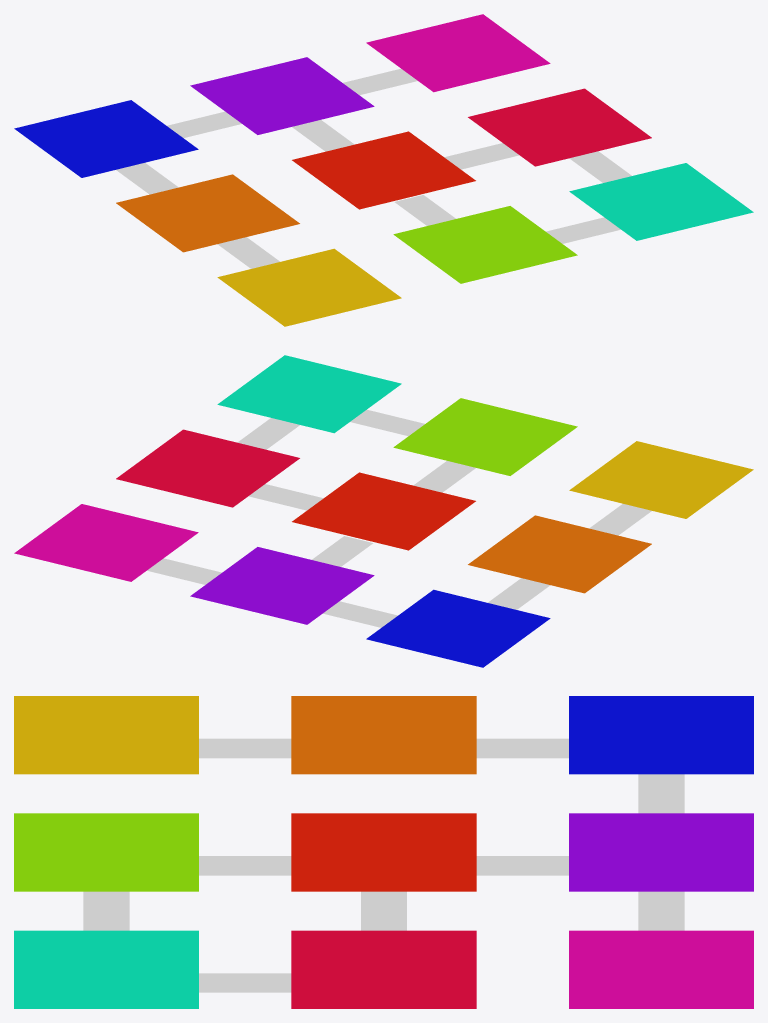
The model's file is object_test_3x3_path.fbx.
3 renders of one model, top to bottom at view 1: azimuth 30°, elevation 25°; view 2: azimuth 150°, elevation 25°; view 3: azimuth 270°, elevation 25°, orthographic. The views are drawn at different scales.
Parts seen in each view (by area): view 1: middle-middle, lower-left, upper-right, upper-middle, lower-middle, middle-left, middle-right, upper-left, lower-right, _path_n/a.005, _path_n/a.009, _path_n/a.006 (+6 smaller); view 2: middle-middle, upper-left, lower-right, upper-middle, lower-middle, middle-left, middle-right, lower-left, upper-right, _path_n/a.007, _path_n/a.005, _path_n/a.006 (+6 smaller); view 3: middle-middle, middle-left, middle-right, upper-middle, lower-middle, upper-left, lower-left, upper-right, lower-right, _path_n/a.003, _path_n/a.004, _path_n/a.005 (+6 smaller).
Part boxes in pixels (x1,y1,x2,y2): middle-middle: [292, 131, 475, 209]; lower-left: [217, 248, 401, 326]; upper-right: [366, 14, 550, 92]; upper-middle: [190, 57, 374, 134]; lower-middle: [393, 206, 577, 283]; middle-left: [116, 174, 299, 252]; middle-right: [468, 88, 651, 166]; upper-left: [14, 100, 198, 177]; lower-right: [569, 163, 753, 240]; _path_n/a.005: [167, 111, 241, 138]; _path_n/a.009: [546, 217, 620, 243]; _path_n/a.006: [444, 143, 518, 169]; middle-middle: [292, 472, 475, 550]; upper-left: [366, 589, 550, 667]; lower-right: [217, 355, 401, 433]; upper-middle: [190, 547, 374, 624]; lower-middle: [393, 398, 577, 475]; middle-left: [468, 515, 651, 593]; middle-right: [116, 429, 299, 507]; lower-left: [569, 441, 753, 518]; upper-right: [14, 504, 198, 581]; _path_n/a.007: [147, 558, 221, 584]; _path_n/a.005: [323, 601, 397, 627]; _path_n/a.006: [249, 484, 323, 510]; middle-middle: [291, 813, 476, 891]; middle-left: [291, 696, 476, 774]; middle-right: [291, 930, 476, 1008]; upper-middle: [569, 813, 753, 891]; lower-middle: [14, 813, 198, 891]; upper-left: [569, 696, 753, 774]; lower-left: [14, 696, 198, 774]; upper-right: [569, 930, 753, 1008]; lower-right: [14, 930, 198, 1008]; _path_n/a.003: [199, 738, 291, 758]; _path_n/a.004: [476, 738, 568, 758]; _path_n/a.005: [638, 774, 684, 813].
Size of the model in its own units: 800 by 15.82 by 800.
